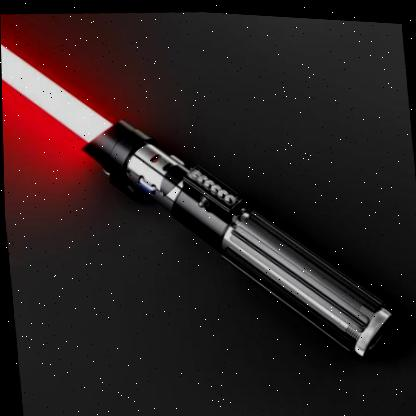sith_lightsaber: (0, 8, 398, 385)
